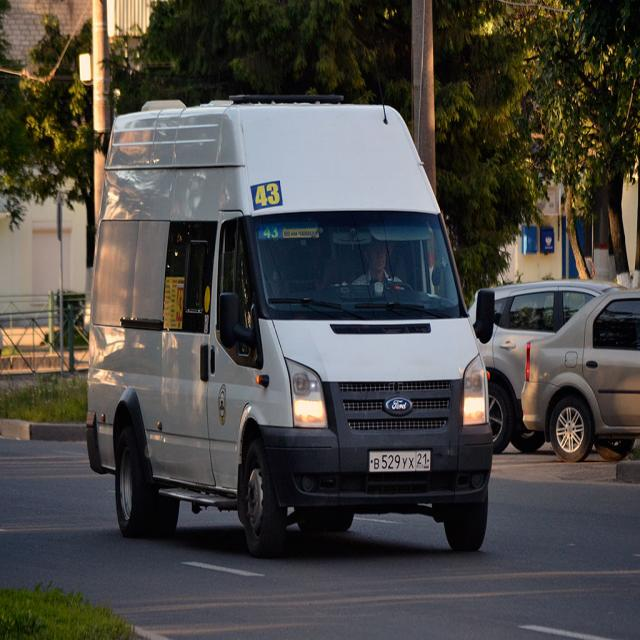number-of-bus: (251, 178, 285, 212), (262, 223, 283, 240)
